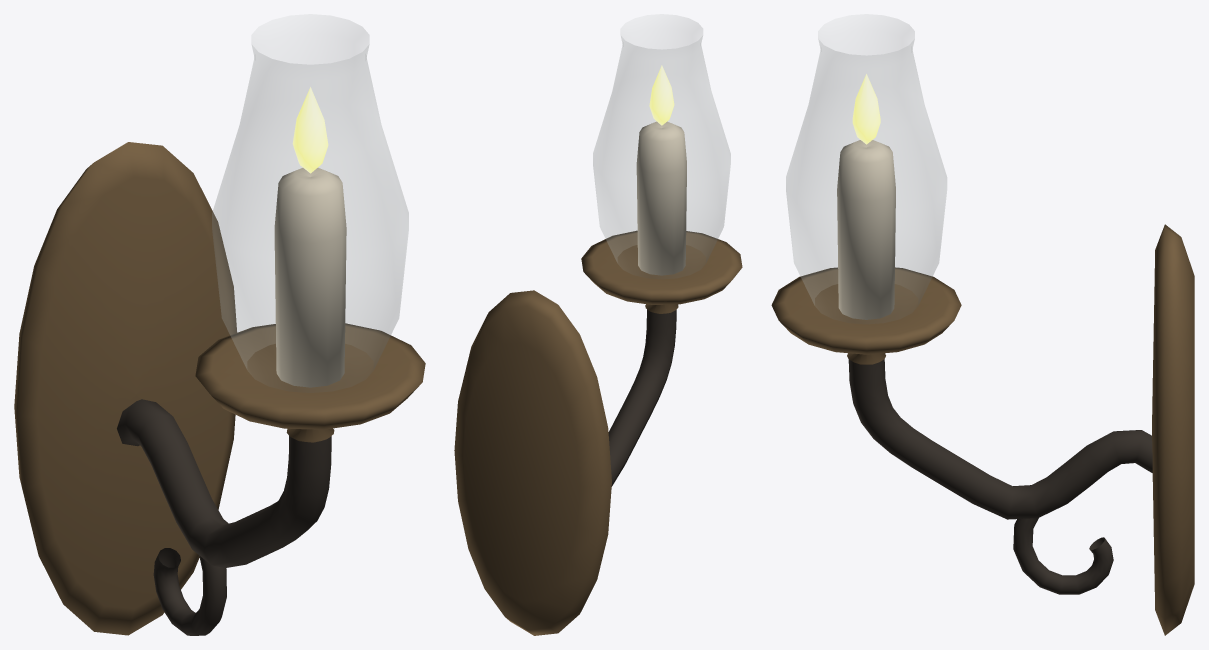
The model's file is arandela-corredor.glb.
The picture shows the model from 3 angles, left to right: view 1: azimuth 30°, elevation 25°; view 2: azimuth 150°, elevation 25°; view 3: azimuth 270°, elevation 25°; orthographic projection. The views are drawn at different scales.
Parts seen in each view (by area): view 1: Placa, Chamine, Pires, Vela, Braco, Voluta, Chama; view 2: Placa, Chamine, Pires, Vela, Braco, Chama; view 3: Chamine, Placa, Braco, Pires, Vela, Voluta, Chama.
Part boxes in pixels (x1,y1,x2,y2): Placa: (14,142,237,635); Chamine: (212,14,408,392); Pires: (195,323,425,442); Vela: (274,167,346,387); Braco: (117,399,331,567); Voluta: (153,548,226,635); Chama: (292,87,328,173); Placa: (454,290,611,635); Chamine: (593,14,730,278); Pires: (581,230,742,313); Vela: (636,121,686,275); Braco: (608,309,676,486); Chama: (649,65,674,125); Chamine: (786,14,946,323); Placa: (1152,224,1194,635); Braco: (848,359,1152,519); Pires: (771,267,961,364); Vela: (837,140,895,319); Voluta: (1013,518,1113,594); Chama: (852,74,880,144).
Size of the model in its own units: 0.128 by 0.402 by 0.258.
